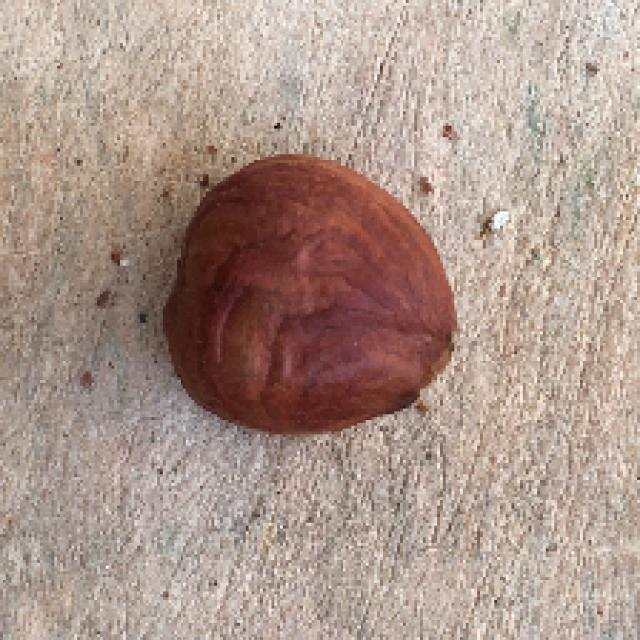hazelnut: (160, 146, 462, 440)
